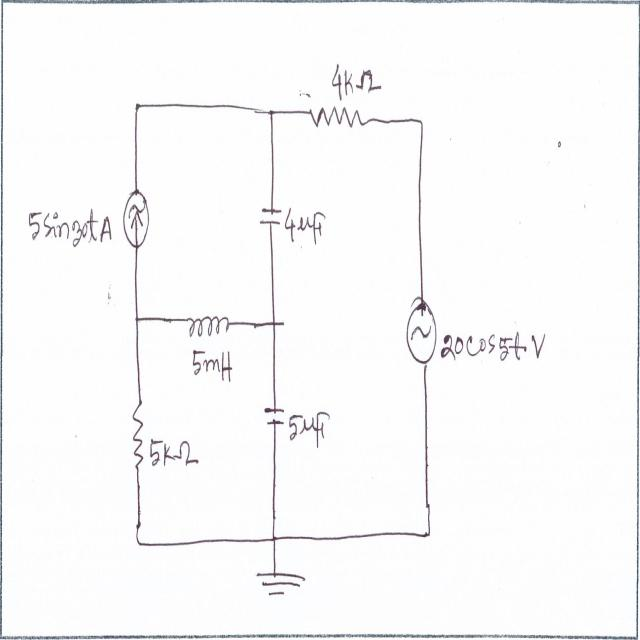ac_current: (402, 302, 440, 376)
capacitor: (257, 202, 284, 240), (262, 400, 287, 433)
current_source: (122, 185, 152, 253)
ground: (255, 564, 310, 611)
inductor: (183, 308, 231, 344)
resistor: (307, 98, 365, 142), (132, 397, 152, 472)
